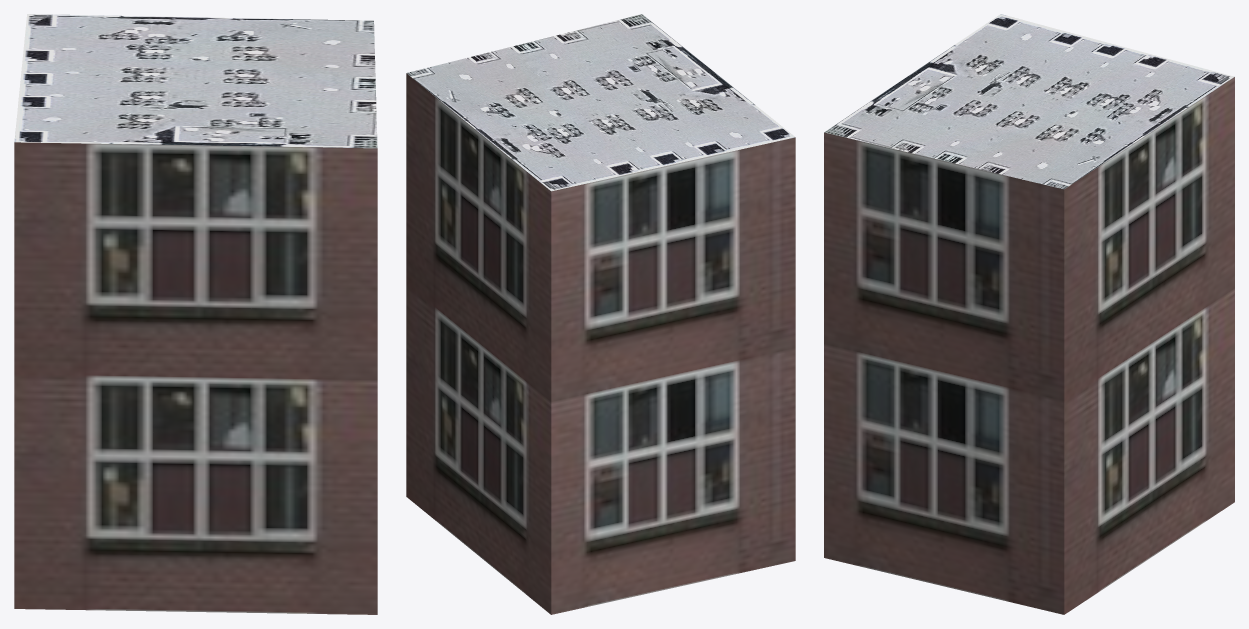
File: ResTex__682.fbx
The picture shows the model from 3 angles, left to right: view 1: azimuth 30°, elevation 25°; view 2: azimuth 150°, elevation 25°; view 3: azimuth 270°, elevation 25°; orthographic projection. The views are drawn at different scales.
Parts seen in each view (by area): view 1: CityEngineMaterial_12_m, CityEngineMaterial_4_m; view 2: CityEngineMaterial_12_m, CityEngineMaterial_4_m; view 3: CityEngineMaterial_12_m, CityEngineMaterial_4_m.
Boxes of the visible parts, bbox=[...] form: CityEngineMaterial_12_m: bbox=[14, 142, 377, 614]; CityEngineMaterial_4_m: bbox=[14, 14, 377, 148]; CityEngineMaterial_12_m: bbox=[406, 73, 795, 614]; CityEngineMaterial_4_m: bbox=[406, 14, 795, 191]; CityEngineMaterial_12_m: bbox=[824, 77, 1234, 614]; CityEngineMaterial_4_m: bbox=[824, 14, 1234, 189].
Size of the model in its own units: 5.31 by 6 by 5.25.
2 materials, 2 textured.
